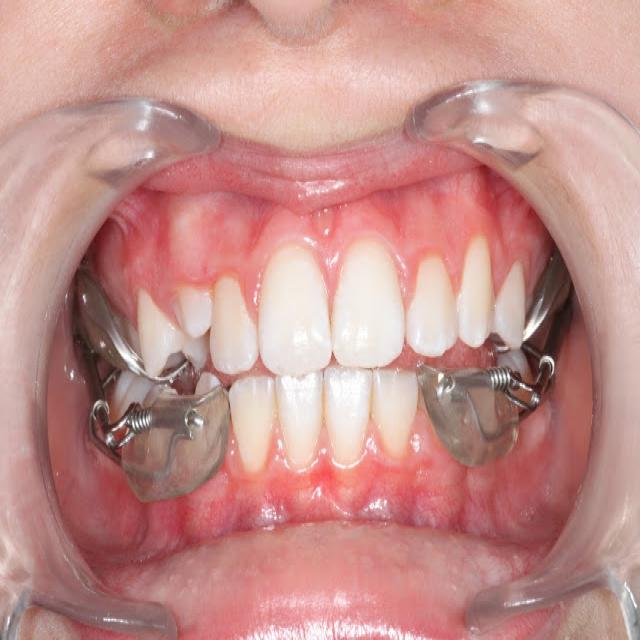tooth: (259, 240, 334, 380), (331, 242, 405, 368), (405, 248, 455, 366), (129, 295, 202, 374), (373, 349, 420, 464), (325, 368, 373, 472), (229, 367, 278, 467), (211, 270, 257, 372), (455, 243, 496, 356), (276, 371, 323, 464), (487, 254, 530, 354), (174, 273, 216, 347)
